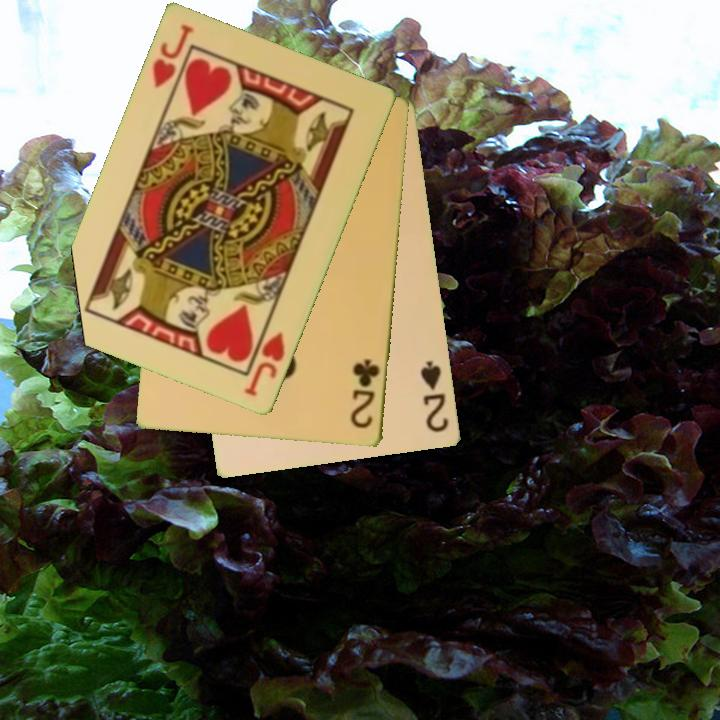2c: (347, 356, 383, 432)
2s: (417, 357, 452, 436)
Jh: (241, 318, 289, 400), (149, 21, 198, 92)
